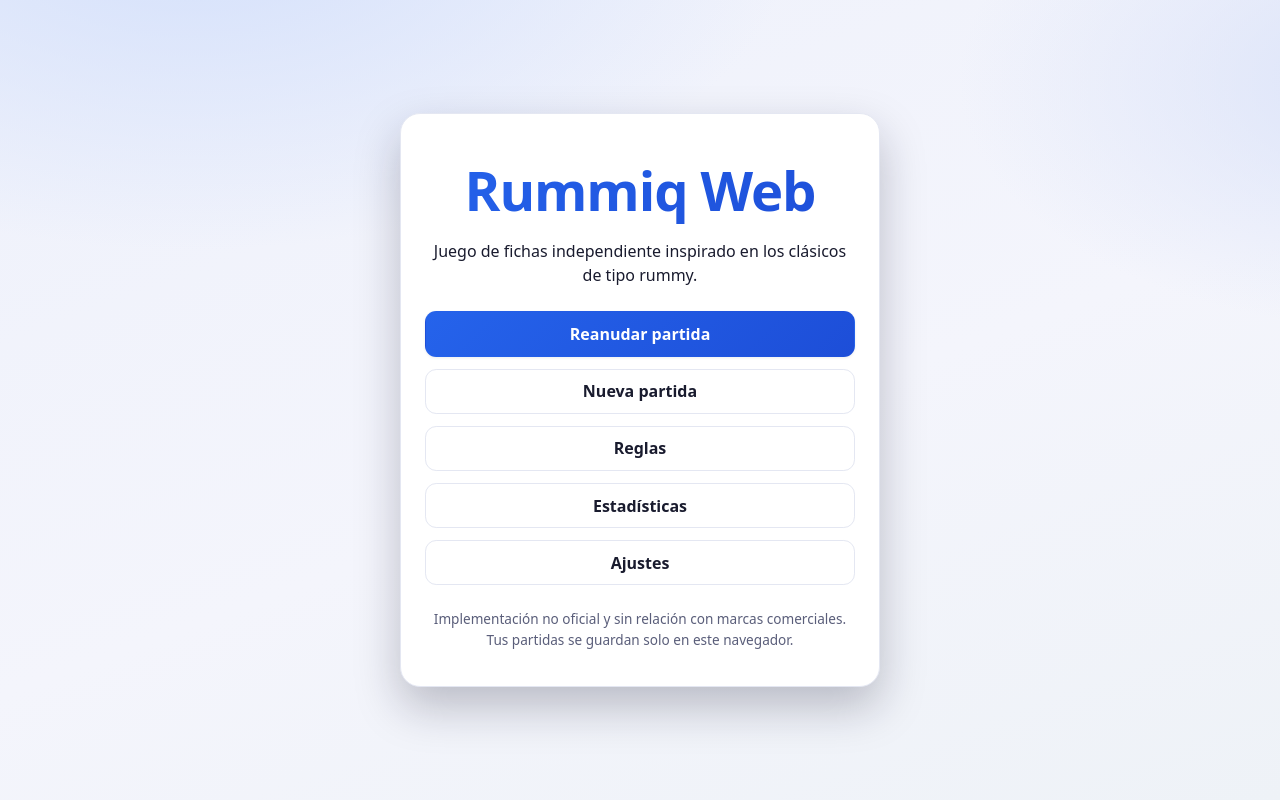
Test: interacción del tablero (selección y botones) › permite abrir bajando un grupo de 30+ puntos con la alternativa por botones
This screenshot has width=1280, height=800.
Click the button "Reanudar partida" at (640,334), box [425,311,855,357]
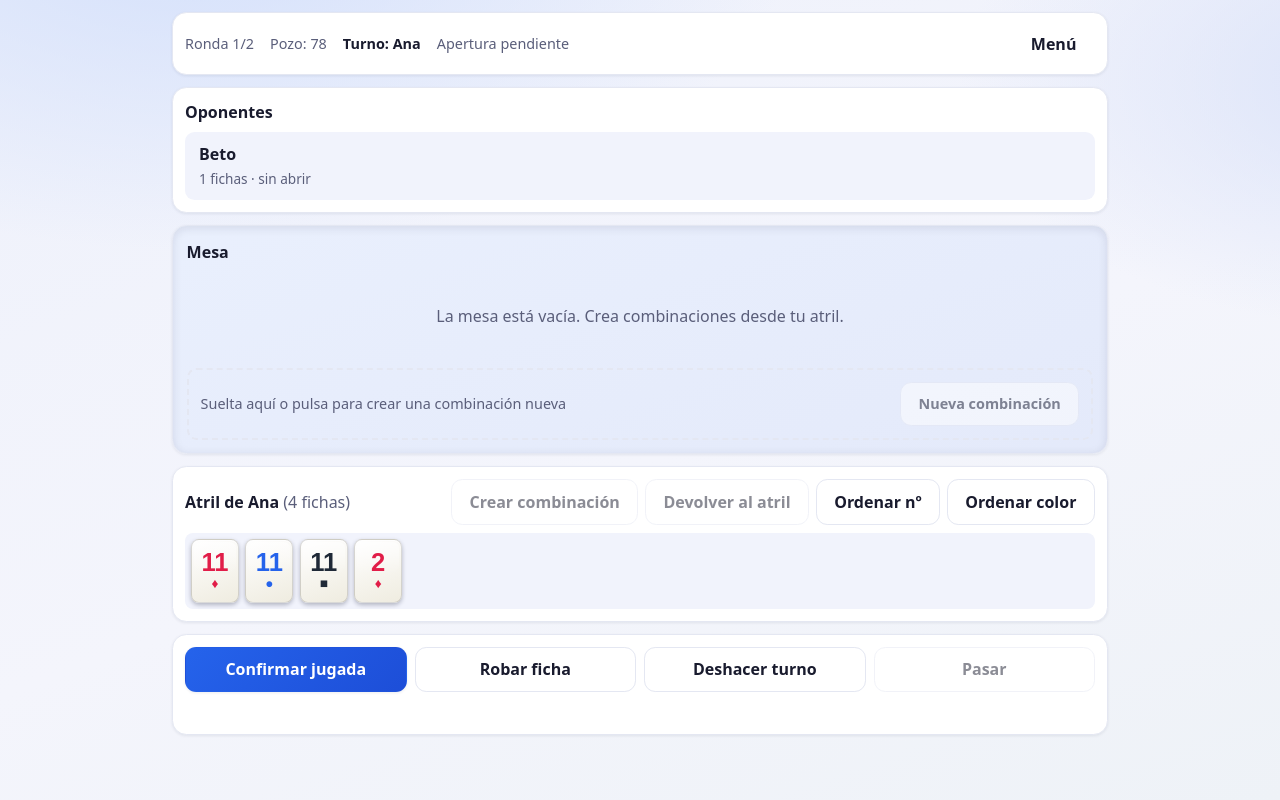
Check: the heading "Atril de Ana (4 fichas)" is shown, box [185,490,350,514]
Click the button named "11 rojo" at (215,571), box [191,539,239,603]
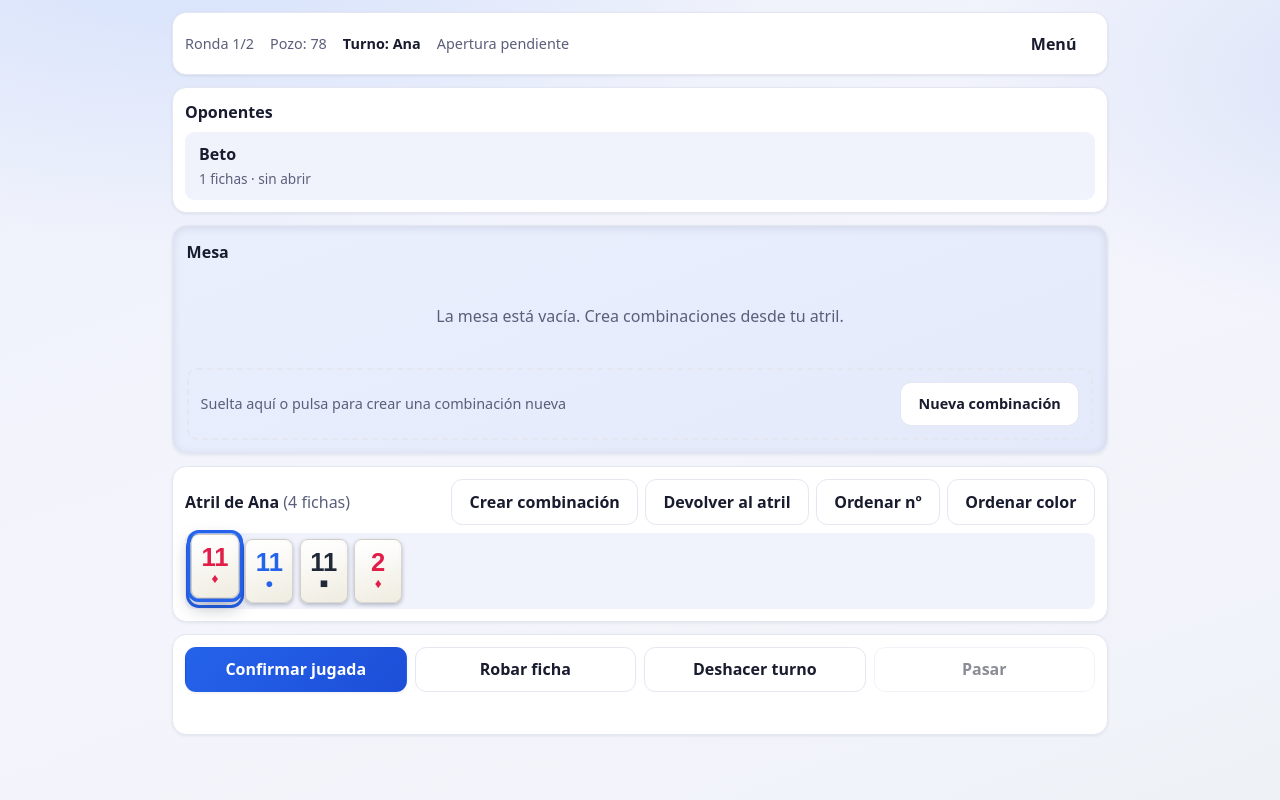
Click the button named "11 azul" at (269,571), box [245,539,293,603]
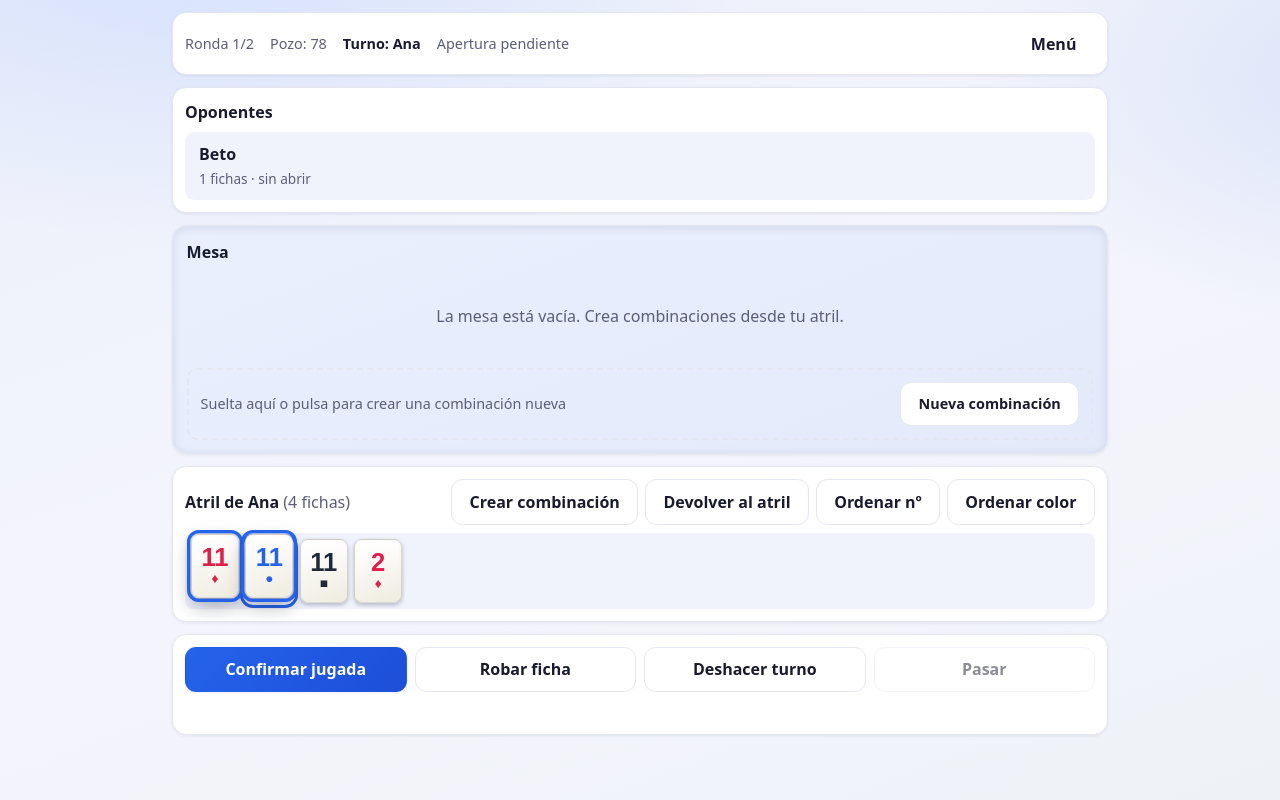
Click the button named "11 negro" at (324,571), box [300,539,348,603]
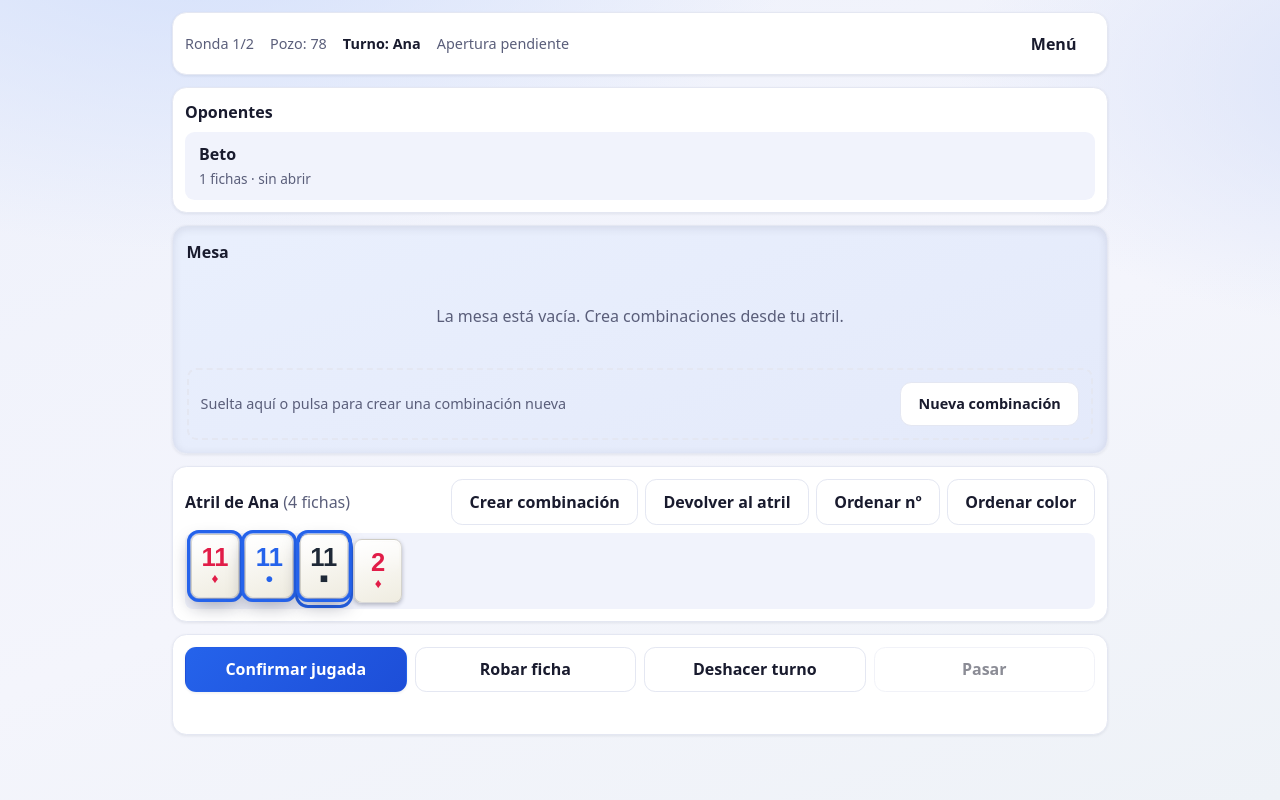
# Crea la combinación y confirma la jugada.
Click the button "Crear combinación" at (545,502), box [451,479,638,525]
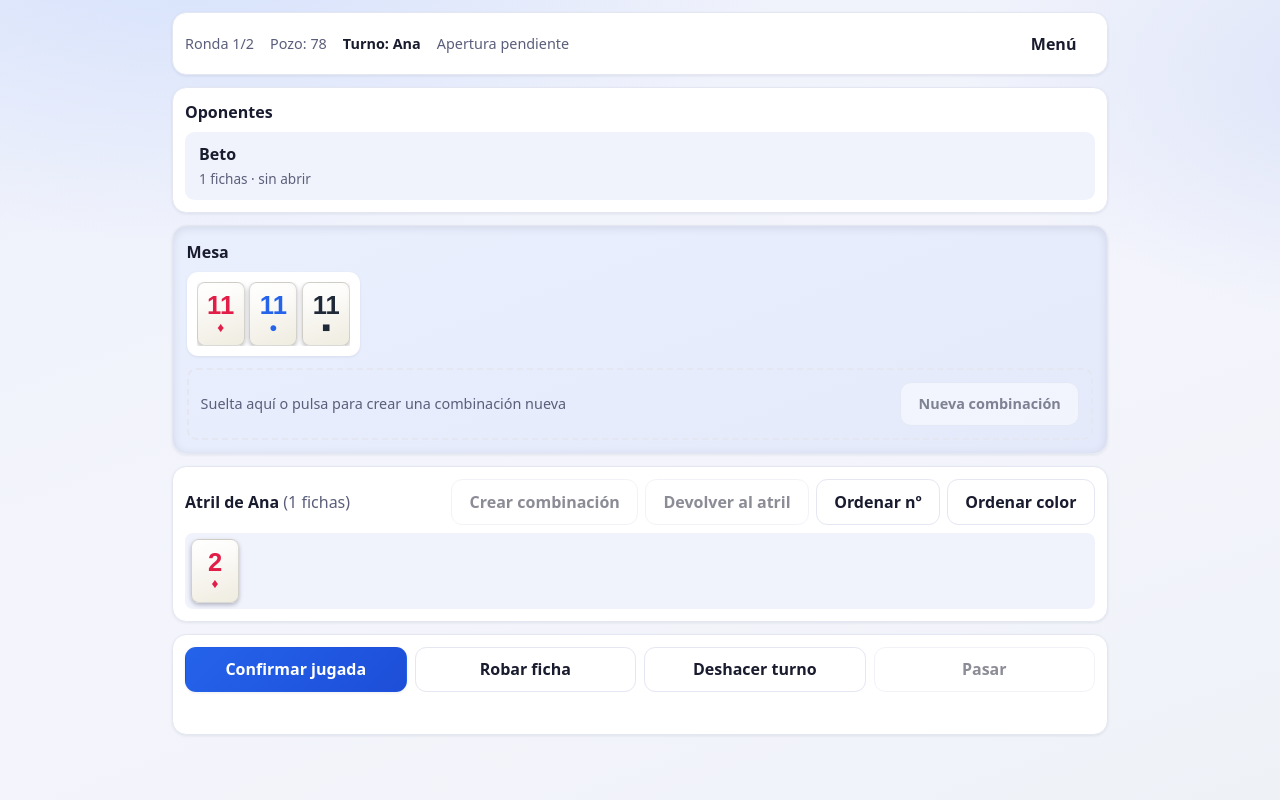
Click the button "Confirmar jugada" at (296,669), box [185,647,406,692]
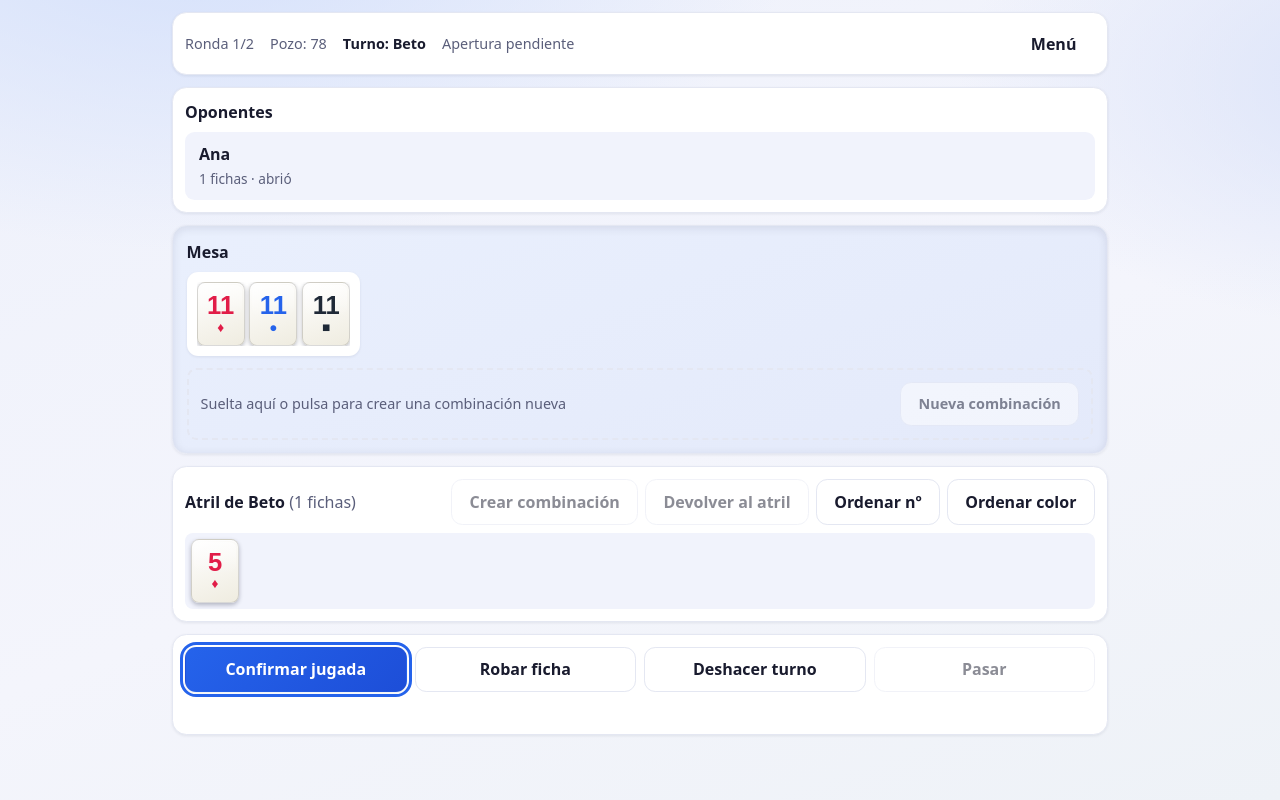
Check: the text "Turno: Beto" is shown, box [343,33,426,54]
